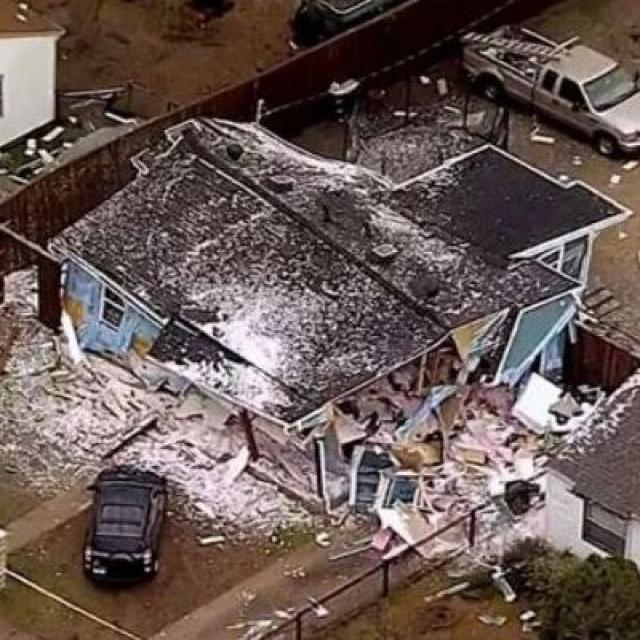collapsed_building: (72, 211, 568, 515)
